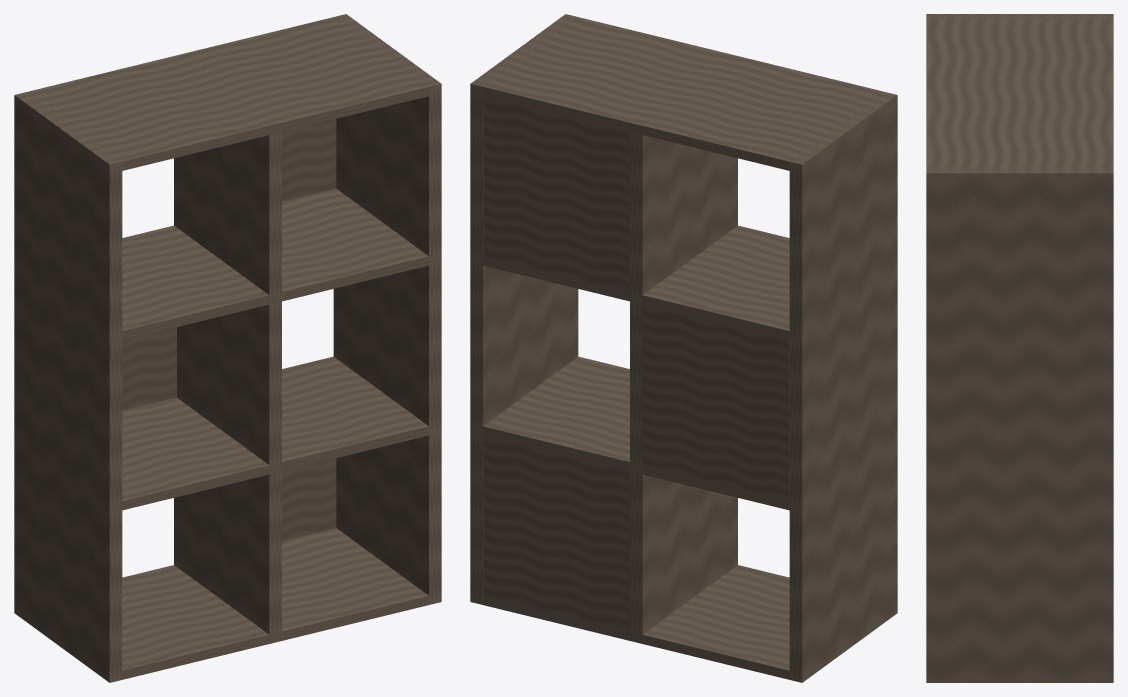
The picture shows the model from 3 angles, left to right: view 1: azimuth 30°, elevation 25°; view 2: azimuth 150°, elevation 25°; view 3: azimuth 270°, elevation 25°; orthographic projection.
Visible parts, largest first — view 1: 1 left_panel, 2 right_panel, 3 center_divider, 4 top_panel, 5 bottom_panel, 7 lower_shelf, 6 upper_shelf, 9 middle_left_back, 10 bottom_right_back, 8 top_right_back; view 2: 1 left_panel, 4 top_panel, 3 center_divider, 9 middle_left_back, 10 bottom_right_back, 8 top_right_back, 2 right_panel, 5 bottom_panel, 6 upper_shelf, 7 lower_shelf; view 3: 2 right_panel, 4 top_panel, 1 left_panel.
Part boxes in pixels (x1,y1,x2,y2): 1 left_panel: [14, 92, 122, 682]; 2 right_panel: [333, 14, 441, 604]; 3 center_divider: [174, 132, 281, 634]; 4 top_panel: [27, 17, 428, 170]; 5 bottom_panel: [122, 528, 428, 679]; 7 lower_shelf: [122, 356, 428, 510]; 6 upper_shelf: [122, 188, 428, 340]; 9 middle_left_back: [122, 327, 176, 410]; 10 bottom_right_back: [282, 458, 336, 541]; 8 top_right_back: [282, 119, 336, 201]; 1 left_panel: [789, 92, 897, 682]; 4 top_panel: [483, 17, 884, 170]; 3 center_divider: [630, 132, 737, 634]; 9 middle_left_back: [642, 304, 789, 500]; 10 bottom_right_back: [483, 435, 630, 631]; 8 top_right_back: [483, 96, 630, 292]; 2 right_panel: [470, 14, 578, 604]; 5 bottom_panel: [483, 565, 789, 679]; 6 upper_shelf: [483, 225, 789, 340]; 7 lower_shelf: [483, 356, 789, 510]; 2 right_panel: [926, 167, 1113, 682]; 4 top_panel: [926, 20, 1113, 167]; 1 left_panel: [926, 14, 1113, 19].
Size of the model in its own units: 0.603 by 0.8999 by 0.3.
2 materials, 2 textured.
